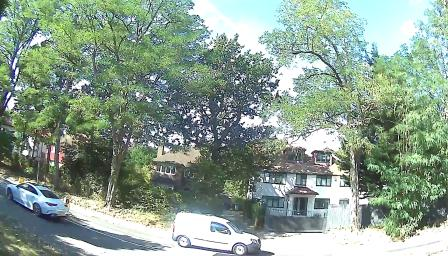Cars: (176, 208, 272, 256), (7, 175, 66, 228)
